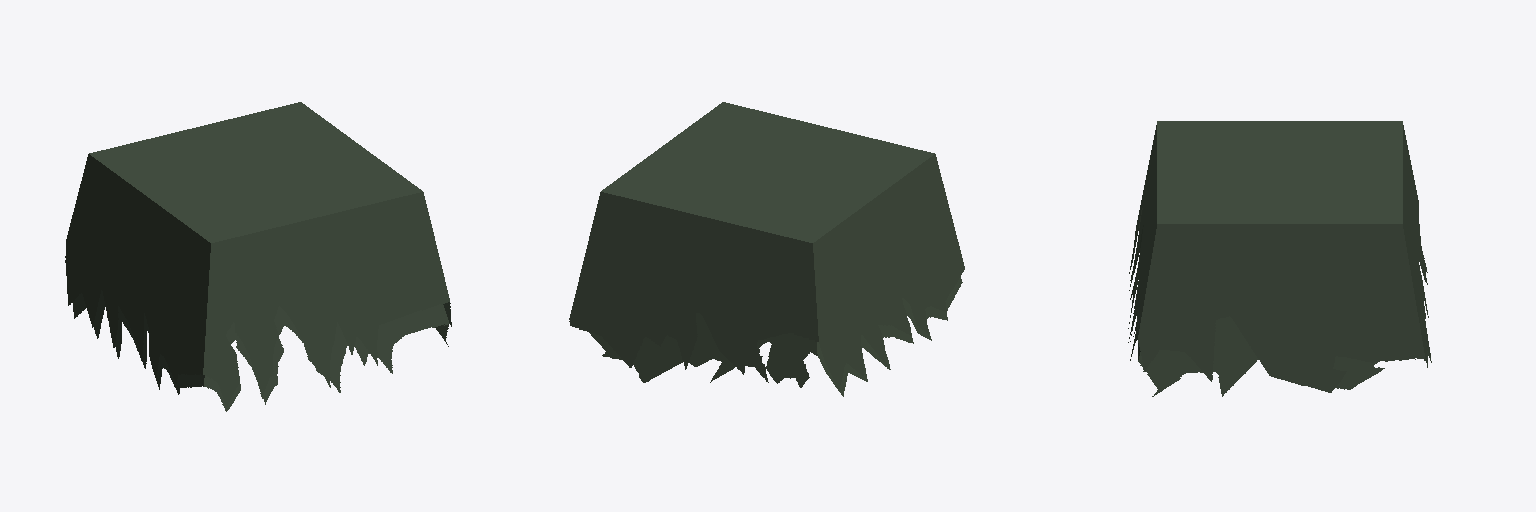
The picture shows the model from 3 angles: view 1: azimuth 30°, elevation 25°; view 2: azimuth 150°, elevation 25°; view 3: azimuth 270°, elevation 25°; orthographic projection.
Parts seen in each view (by area): view 1: Phase_Block_Cover; view 2: Phase_Block_Cover; view 3: Phase_Block_Cover.
Boxes of the visible parts, <box> form: Phase_Block_Cover: <box>65,102,451,411</box>; Phase_Block_Cover: <box>569,102,964,396</box>; Phase_Block_Cover: <box>1128,121,1431,396</box>.
Size of the model in its own units: 2.5 by 1.5 by 2.5.
Materials: 1 (1 with a texture image).